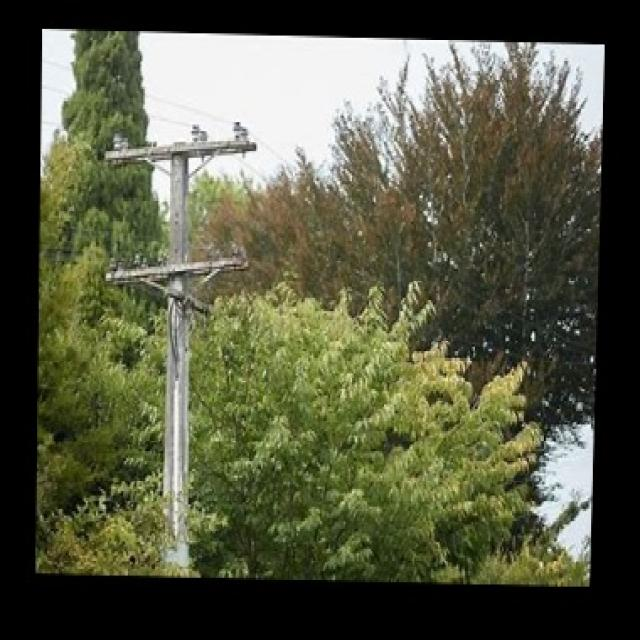utility poles: (105, 109, 255, 573)
